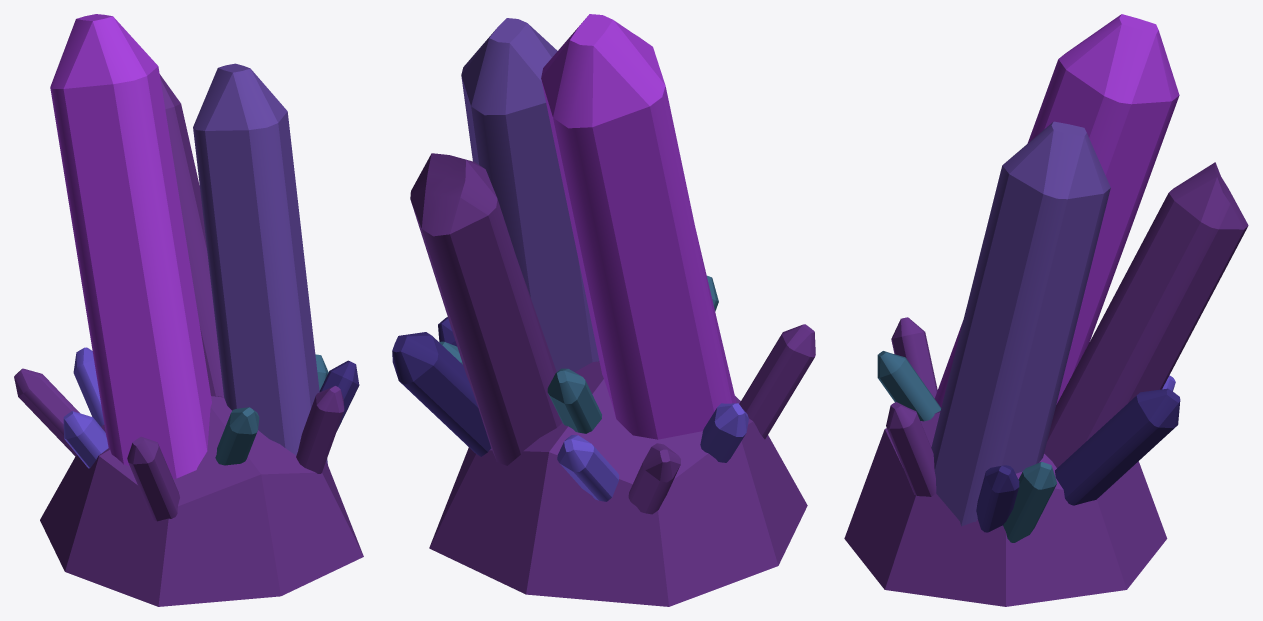
The model's file is enviornment_diamond_growth2_asset.fbx.
3 views of the same model, side by side, from view 1: azimuth 30°, elevation 25°; view 2: azimuth 150°, elevation 25°; view 3: azimuth 270°, elevation 25° (orthographic). The views are drawn at different scales.
Visible parts, largest first — view 1: polySurface31; view 2: polySurface31; view 3: polySurface31.
Boxes of the visible parts, x1,y1,x2,y2 form: polySurface31: (14, 14, 363, 606); polySurface31: (392, 14, 815, 606); polySurface31: (844, 14, 1248, 606).
Bounding box in the file's own units: 7.2 × 11.59 × 8.5.
